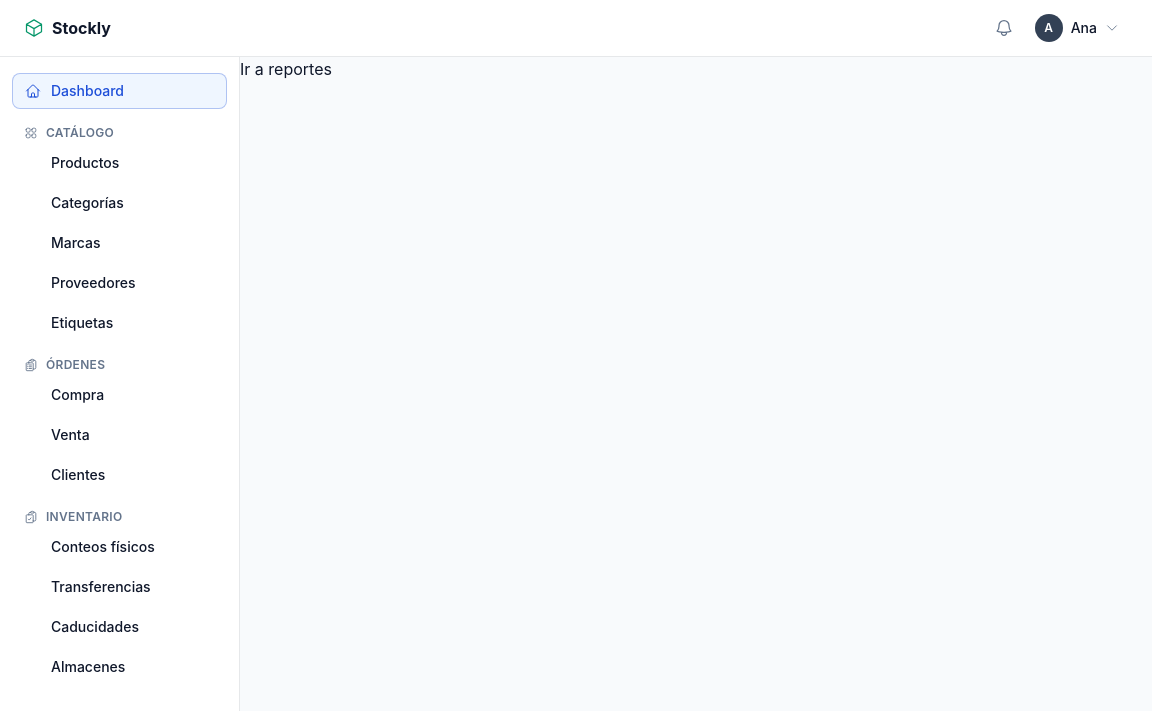
Test: App — menú de usuario (T2-16) › Escape lo cierra y devuelve el foco a su botón
Click the button with aria-label "menú de usuario" at [1077, 28], box [1026,7,1128,49]
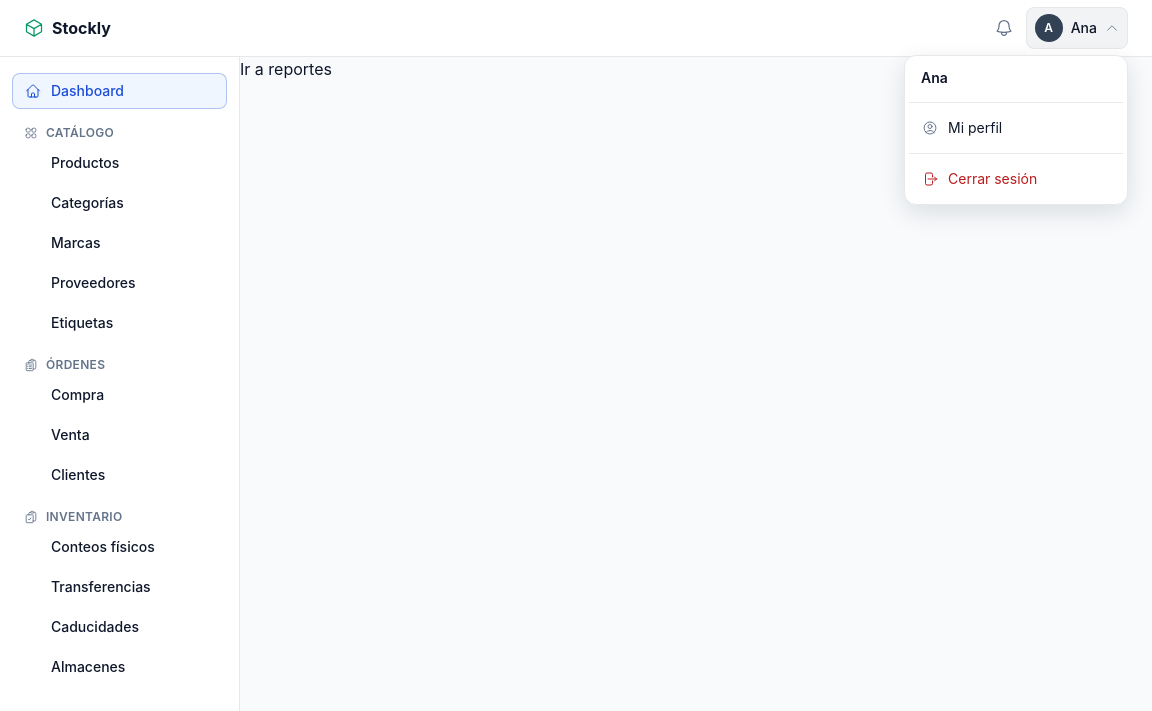
Check: the menu is shown, box [904,55,1128,205]
Press Escape
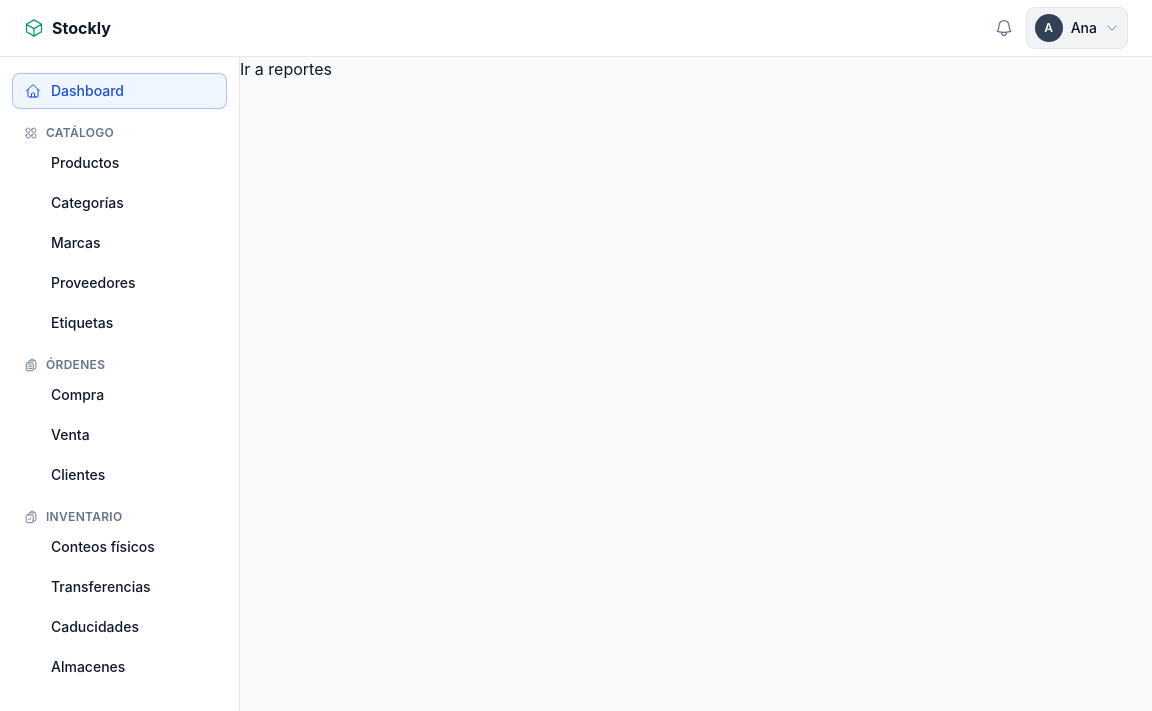
Check: the menu is gone
